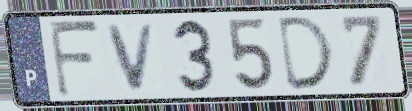3: (171, 16, 216, 95)
5: (224, 16, 276, 92)
7: (339, 12, 386, 90)
D: (276, 13, 339, 93)
F: (46, 18, 103, 100)
V: (104, 20, 160, 94)
